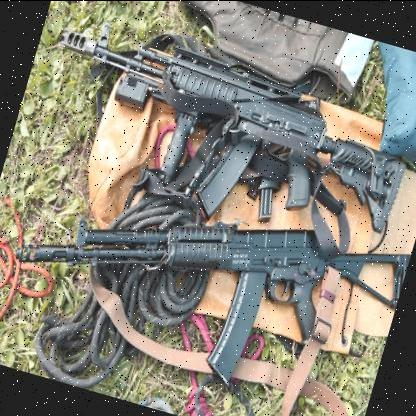rifle: (0, 172, 403, 416), (27, 0, 416, 243)
